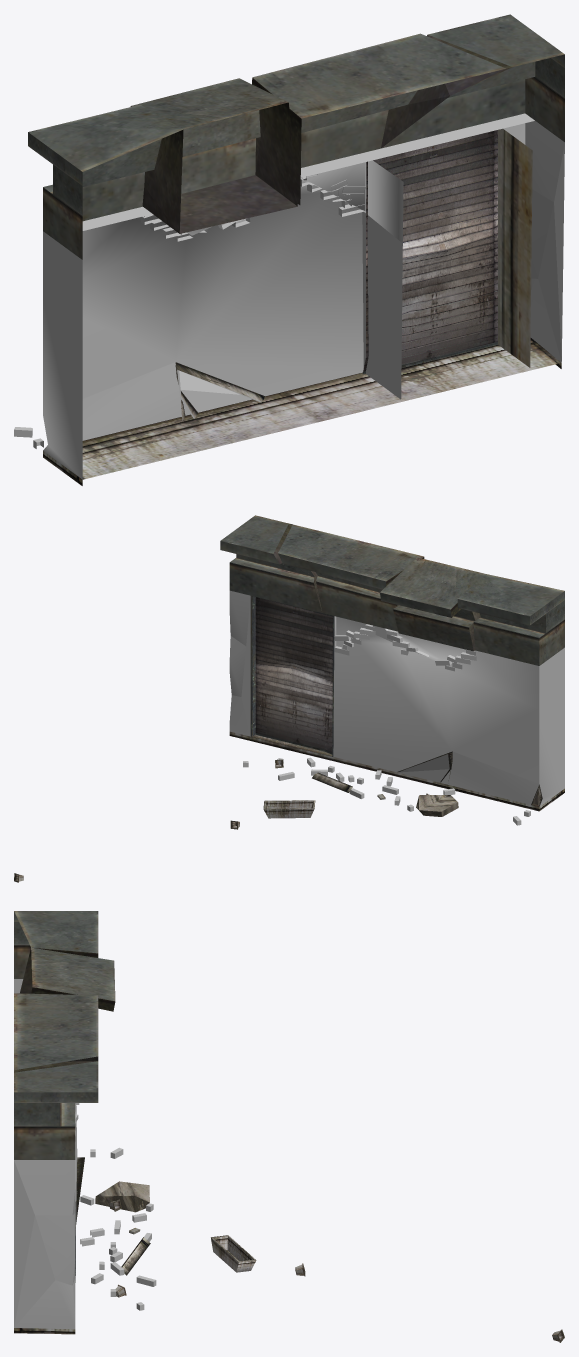
The model's file is Store_front_11_A.fbx.
3 renders of one model, top to bottom at view 1: azimuth 30°, elevation 25°; view 2: azimuth 150°, elevation 25°; view 3: azimuth 270°, elevation 25°, orthographic. The views are drawn at different scales.
Parts seen in each view (by area): view 1: Store_front_11_A; view 2: Store_front_11_A; view 3: Store_front_11_A.
Part boxes in pixels (<box>): Store_front_11_A: <box>14,14,564,485</box>; Store_front_11_A: <box>14,515,564,882</box>; Store_front_11_A: <box>14,911,564,1342</box>.
Bounding box in the file's own units: 733 × 455 × 899.
